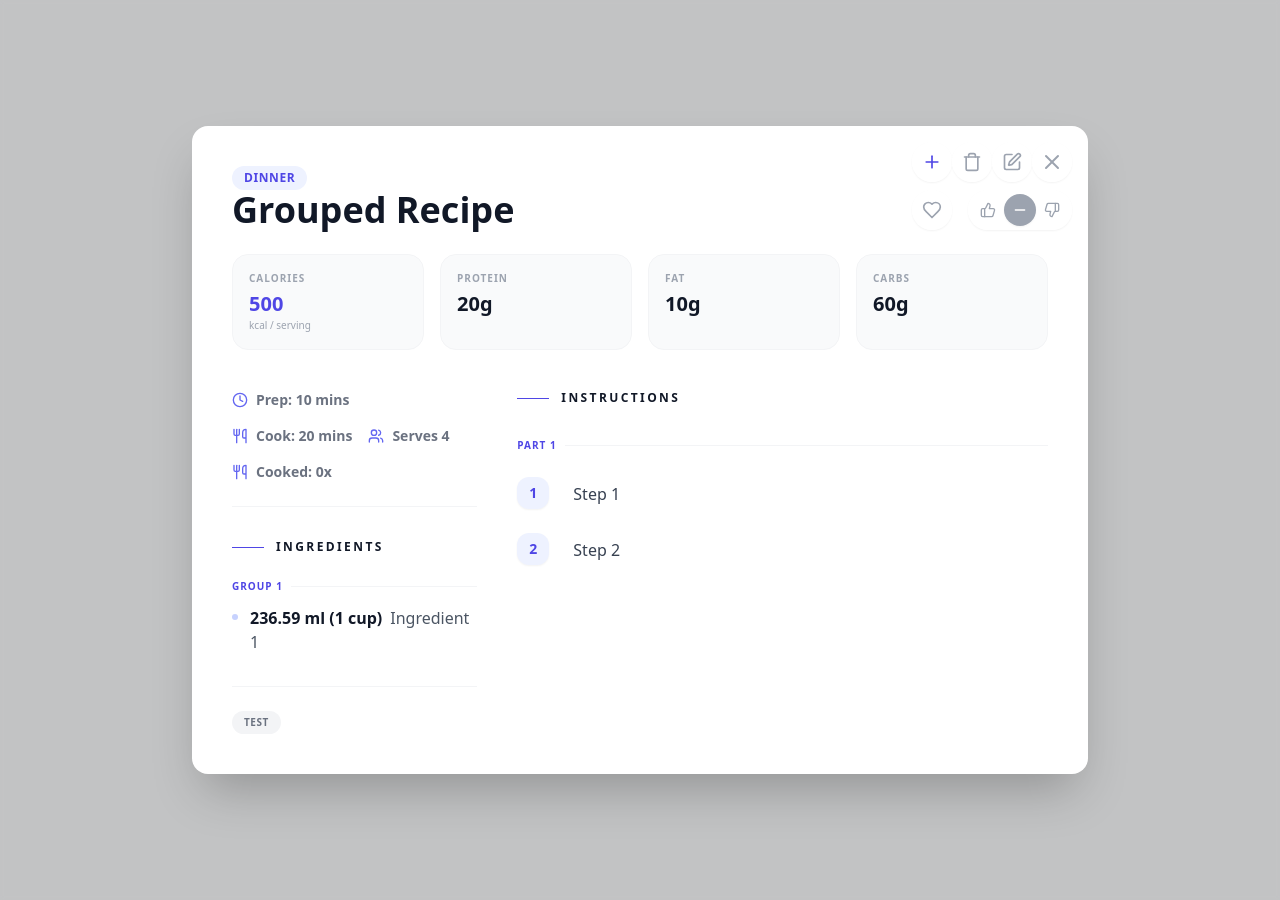
Scenario: RecipeModal › can add and remove groups in edit mode
Click the button titled "Edit Recipe": [1012, 162] box [992,142,1032,182]
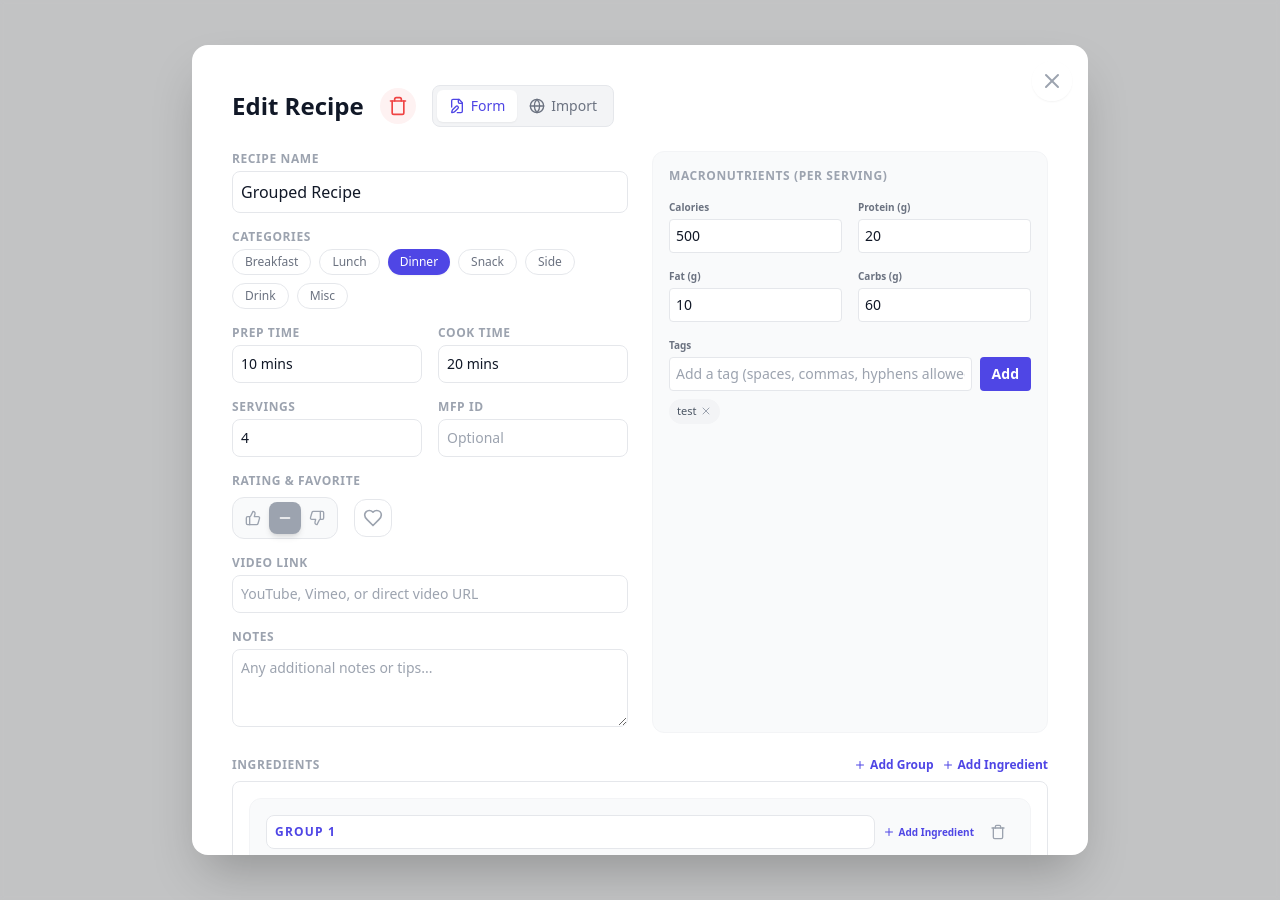
Click the button "Add Group": [894, 765] box [854,757,934,773]
(page scrolled)
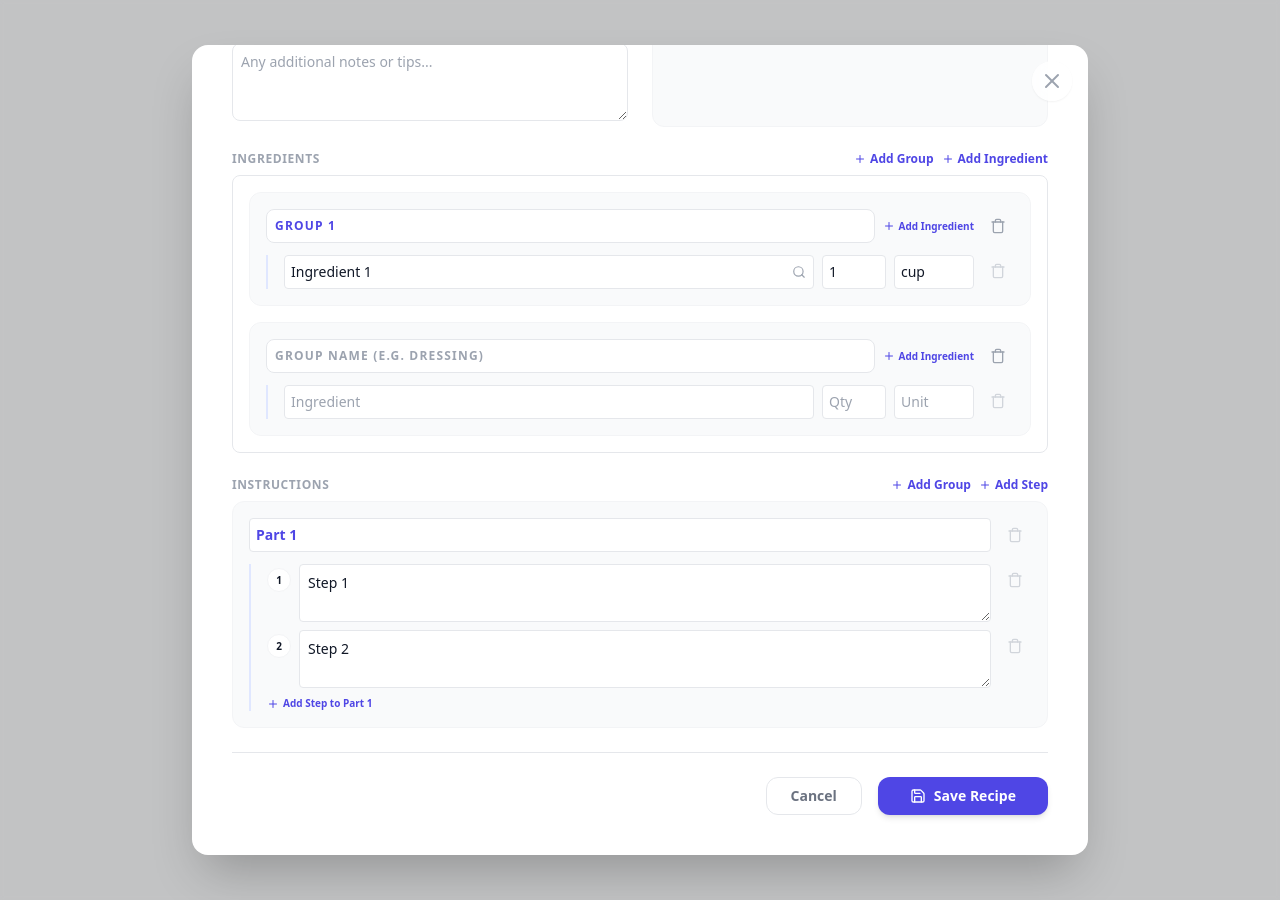
Expected: the number of fields with placeholder "Group Name (e.g. Dressing)" is 3, [266,209,875,243]; [266,339,875,373]; [249,518,991,552]
Click the button "Add Group" in the row of "Instructions": [931, 485] box [892,477,971,493]
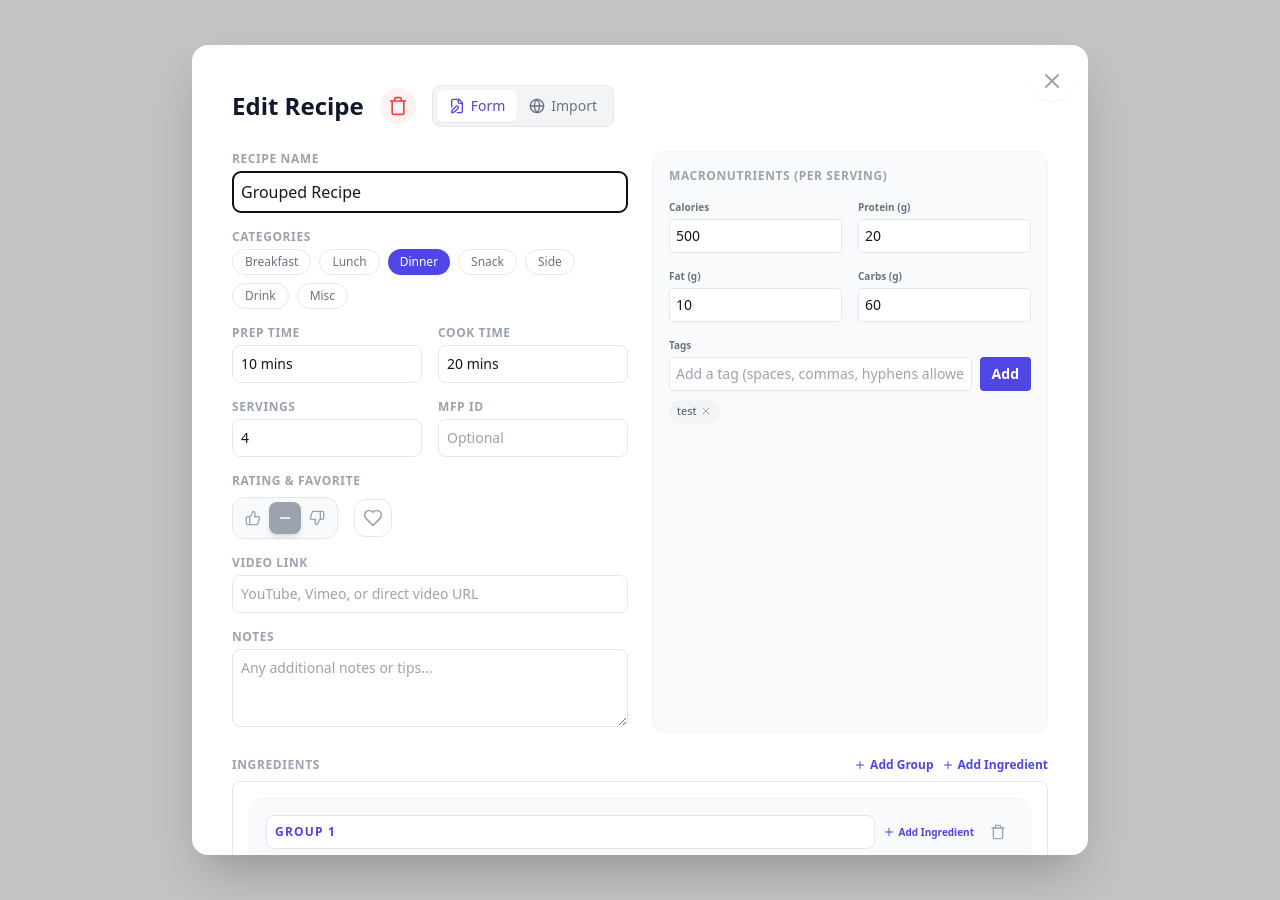
Expected: the number of fields with placeholder "Group Name (e.g. Dressing)" is 4
